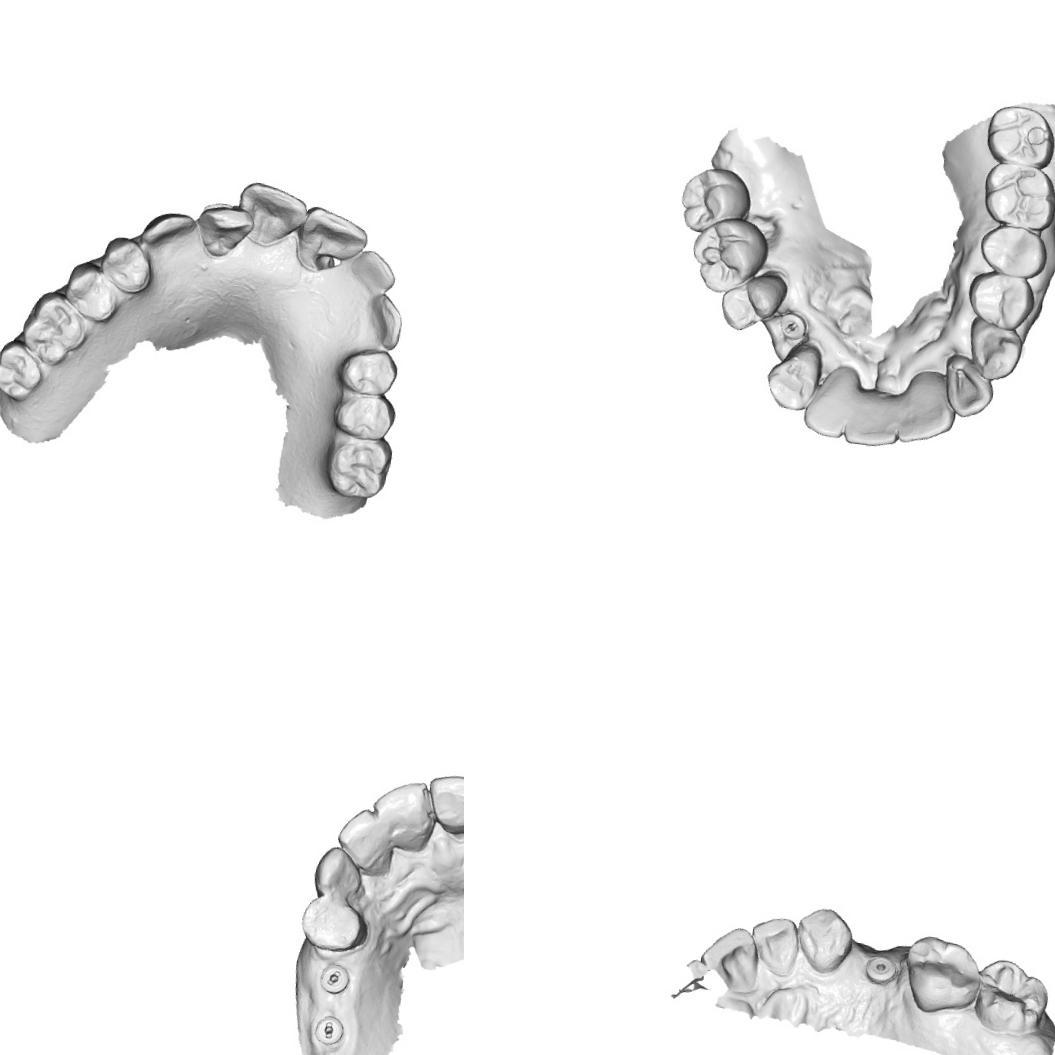canine: (790, 903, 858, 978), (762, 338, 825, 414), (964, 314, 1026, 384), (310, 843, 368, 901), (136, 207, 200, 256), (362, 290, 405, 352)
implant: (860, 948, 900, 988)
implant_minus: (318, 960, 352, 996), (312, 1013, 346, 1048), (777, 308, 809, 342)
incisor: (292, 204, 372, 278), (233, 179, 311, 250), (368, 776, 438, 855), (896, 366, 961, 449), (696, 922, 764, 996), (333, 804, 396, 876), (800, 362, 856, 439), (842, 386, 904, 452), (192, 201, 257, 263), (745, 912, 803, 980), (940, 352, 997, 420), (422, 770, 464, 838), (346, 247, 398, 298)
molar: (898, 930, 987, 1020), (687, 212, 772, 298), (970, 955, 1054, 1038), (18, 288, 94, 370), (676, 164, 755, 238), (979, 161, 1055, 233), (322, 432, 395, 502), (983, 102, 1055, 170), (0, 337, 48, 406)
premolar: (963, 268, 1038, 334), (718, 268, 790, 336), (296, 895, 372, 956), (976, 222, 1050, 282), (60, 258, 122, 323), (330, 388, 400, 443), (338, 346, 408, 400), (97, 233, 155, 296)
